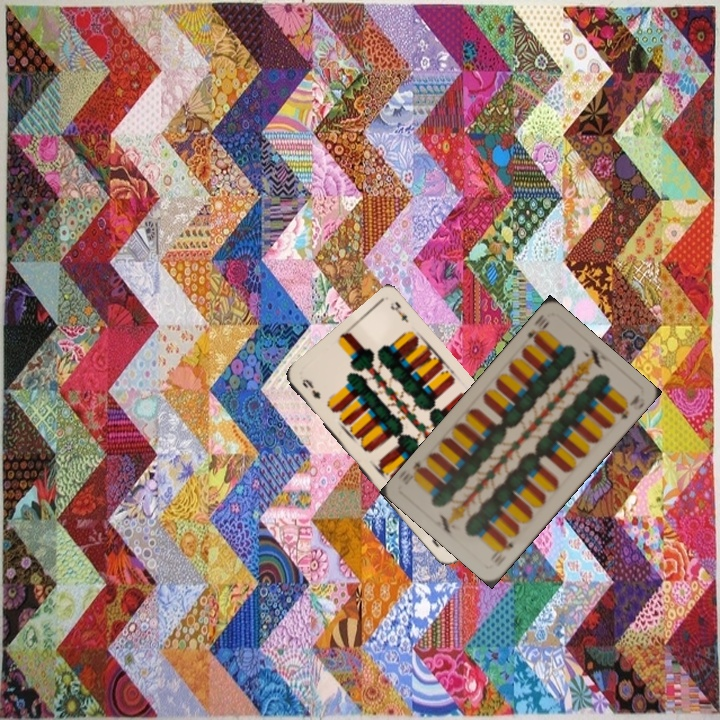E10: (523, 317, 552, 346), (490, 536, 516, 565)
E9: (298, 375, 323, 402)
